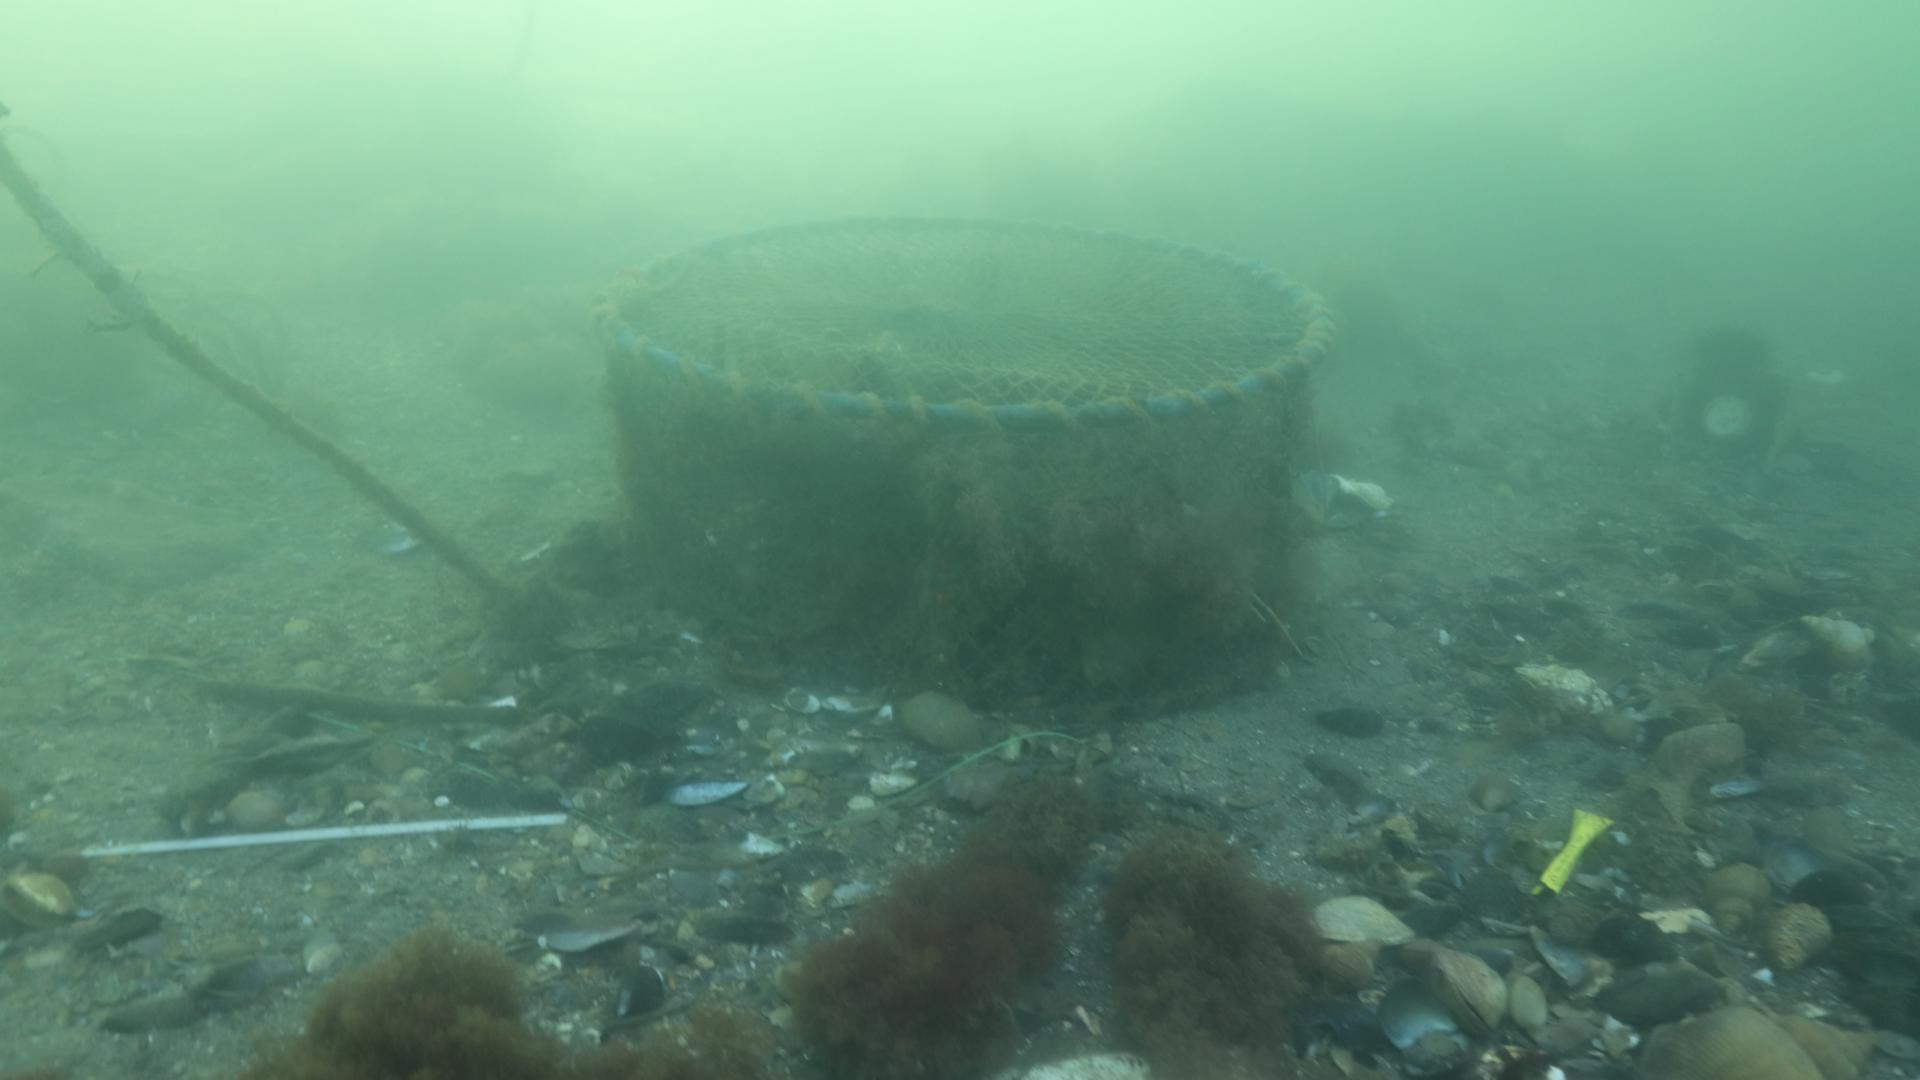circular fish trap: (585, 212, 1335, 727)
rope: (0, 80, 547, 694)
